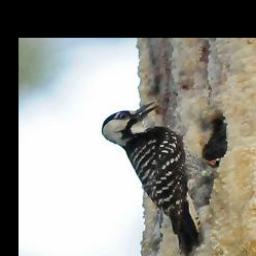Woodpecker: (99, 101, 220, 256)
